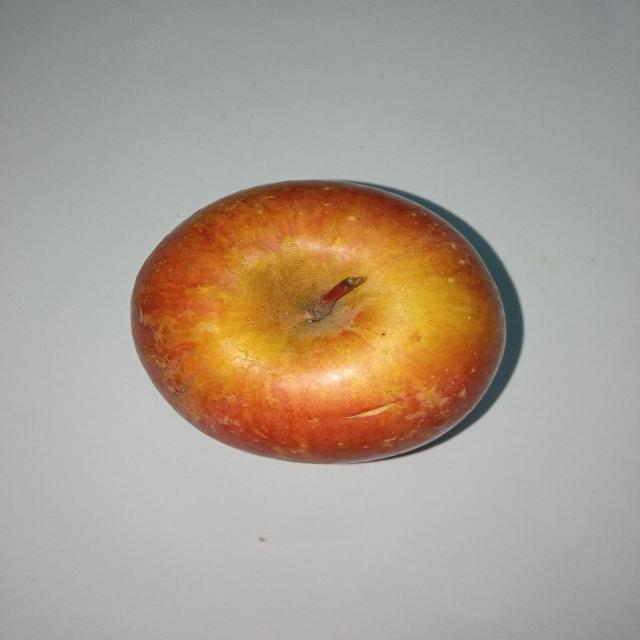fresh_apple: (133, 178, 507, 464)
